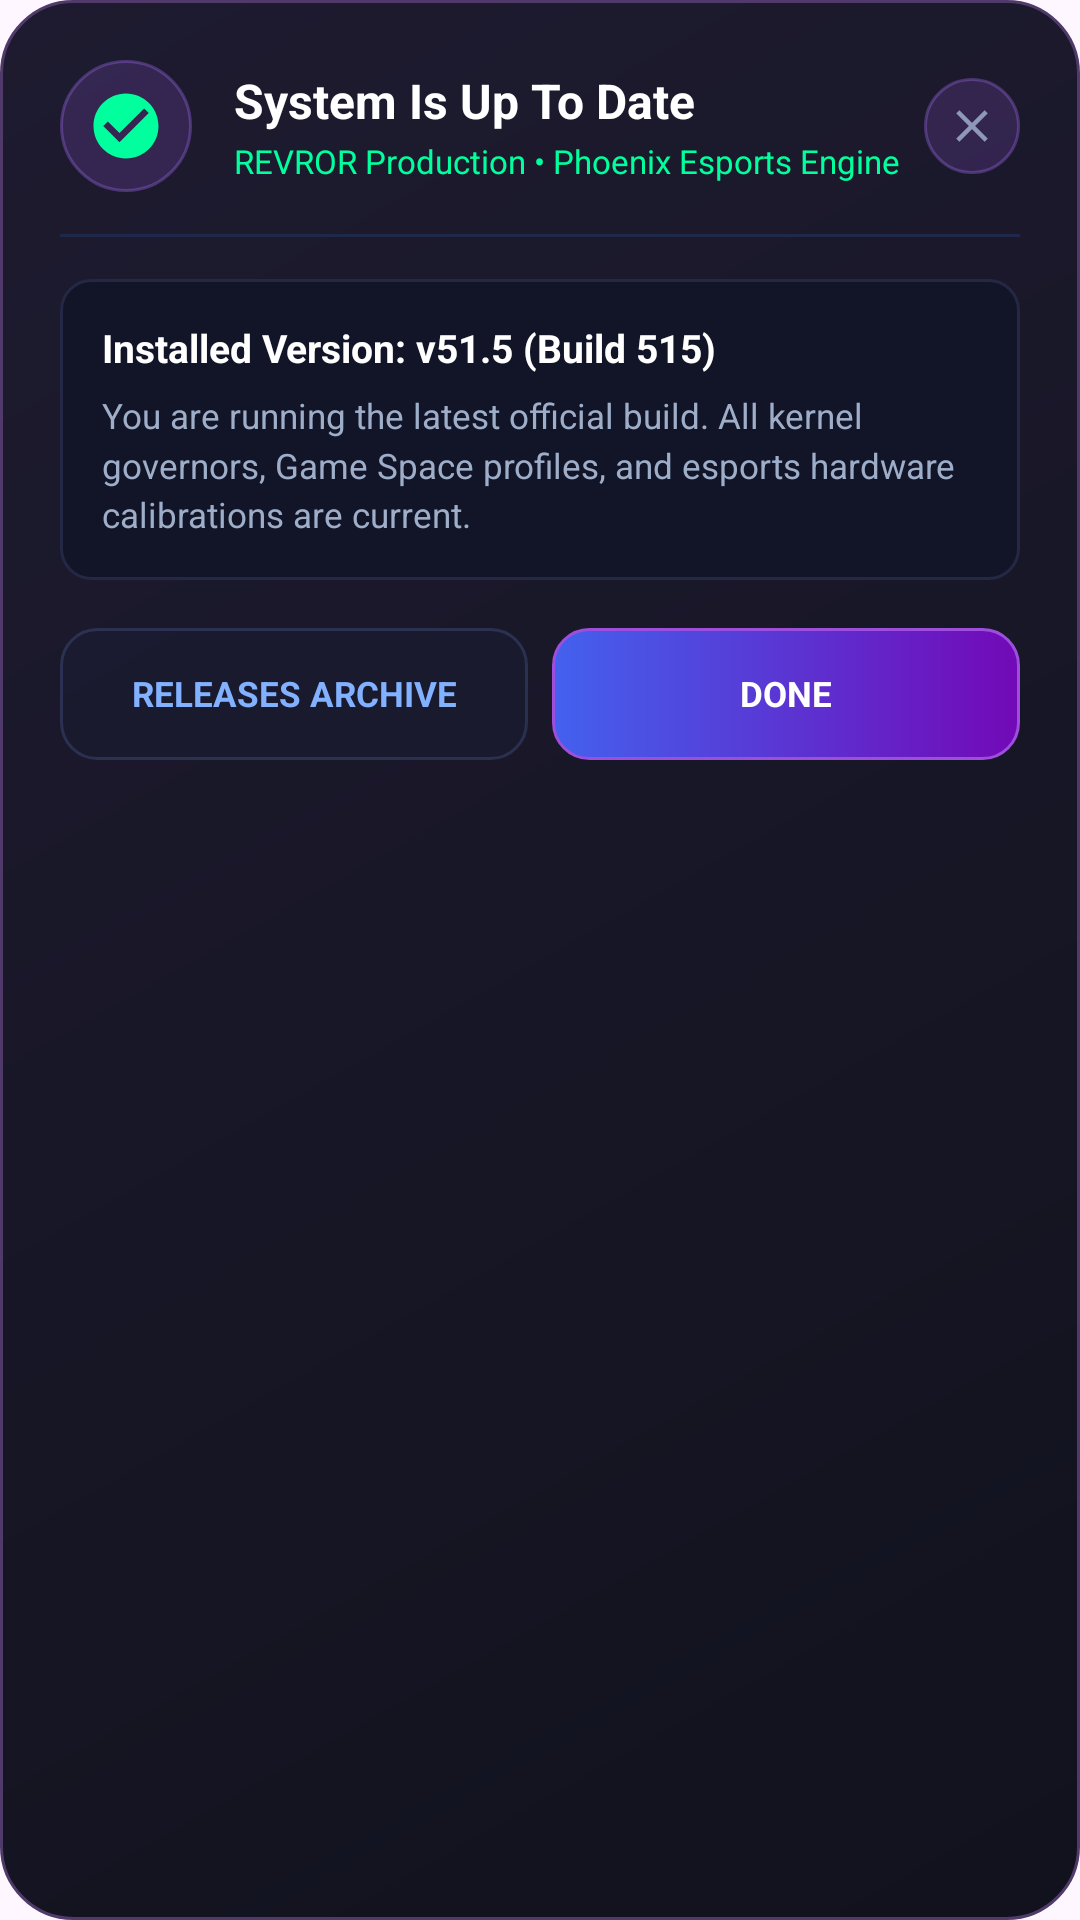

Named icons in this screenshot (1080 × 1920) and their bounding boxes, (left=x1, top=y1, right=x2, bottom=y2):
cancel: (left=924, top=78, right=1020, bottom=174)
ror check circle: (left=93, top=93, right=159, bottom=159)
